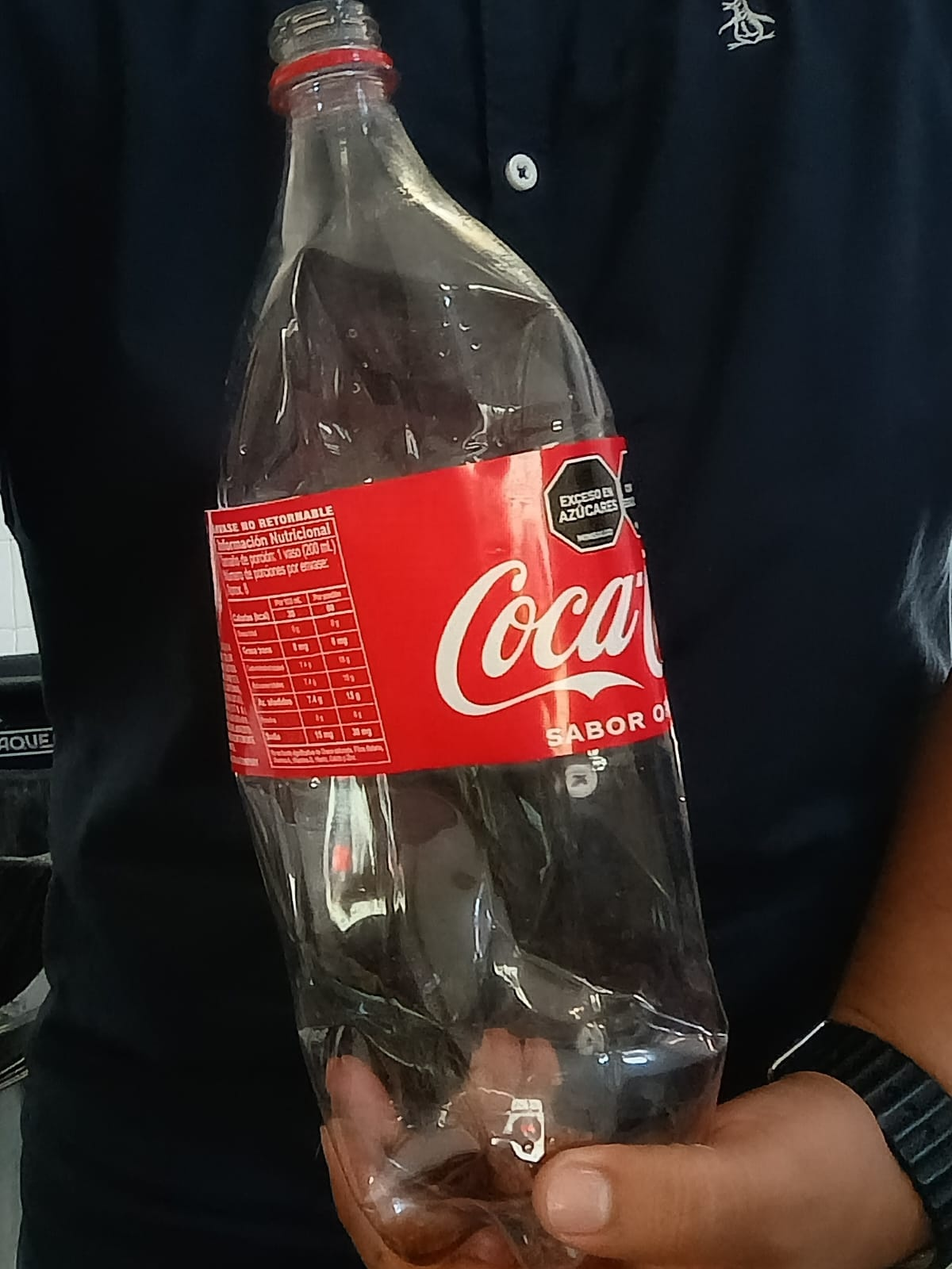Plastico: (207, 0, 729, 1267)
